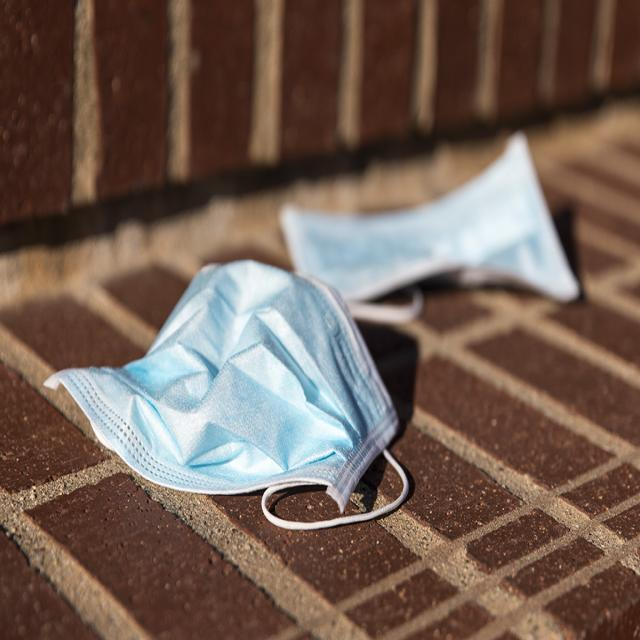face_mask: (52, 272, 380, 514), (291, 144, 569, 298)
